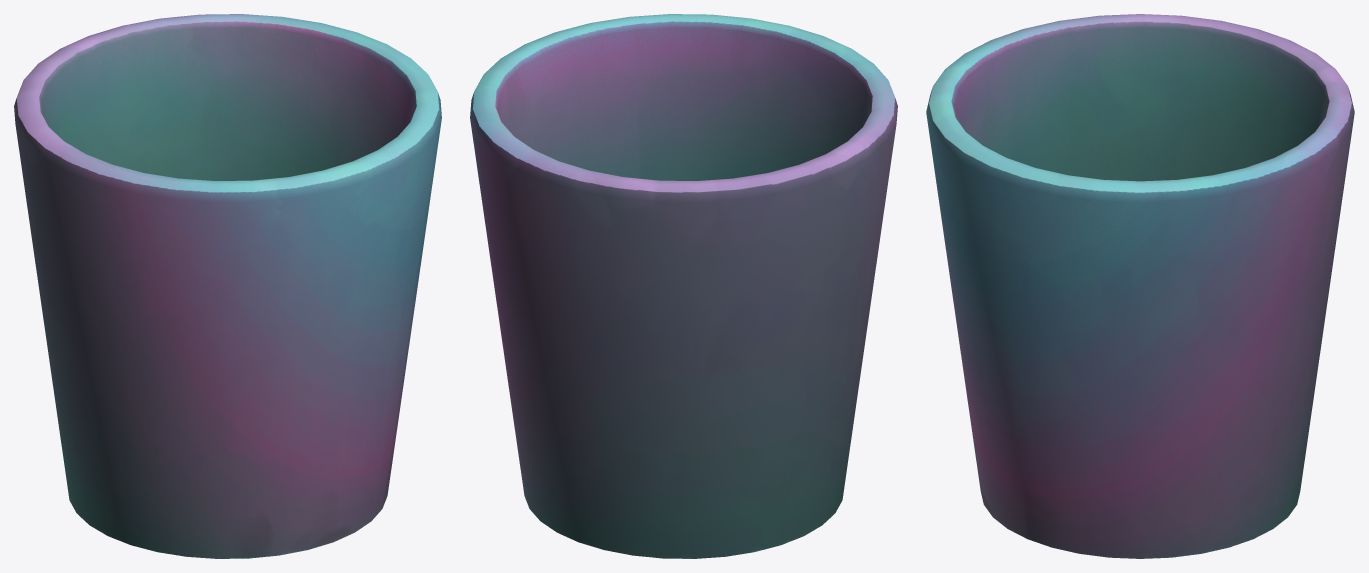
Rendered from pip2_trashcan_bm.fbx.
3 renders of one model, left to right at view 1: azimuth 30°, elevation 25°; view 2: azimuth 150°, elevation 25°; view 3: azimuth 270°, elevation 25°, orthographic.
Parts seen in each view (by area): view 1: trashcan; view 2: trashcan; view 3: trashcan.
Boxes of the visible parts, box(x1,y1,x2,y2) form: trashcan: box(14, 14, 441, 558); trashcan: box(470, 14, 897, 558); trashcan: box(926, 14, 1354, 558).
Size of the model in its own units: 40.65 by 40.99 by 40.65.
1 material, 1 textured.
